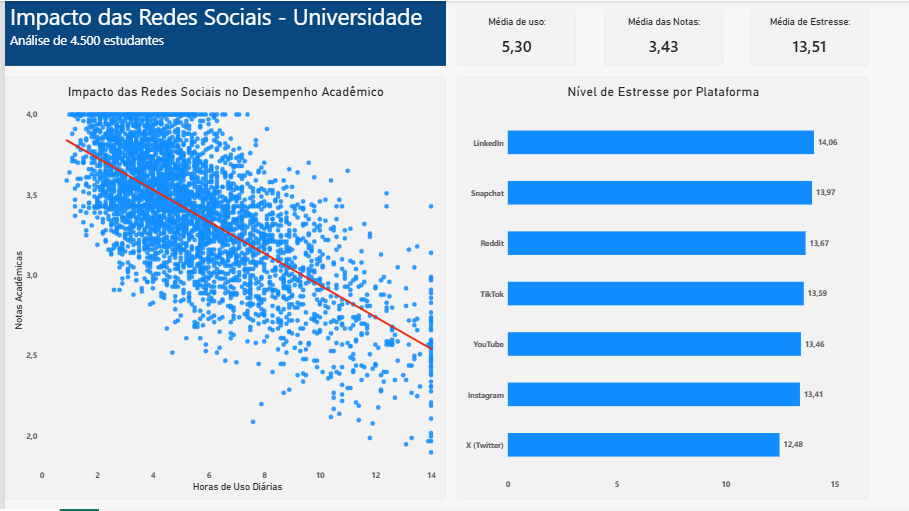

The page's visual inventory and layout, read from the dashboard file:
{"tool":"powerbi","page":{"name":"Página 1","canvas":[1920,1080],"ordinal":0},"visuals":[{"type":"scatterChart","title":"Impacto das Redes Sociais no Desempenho Acadêmico","fields":{"Category":["Social_media_impact_on_life_cleaned.Student_ID"],"X":["Sum(Social_media_impact_on_life_cleaned.Daily_Usage_Hours)"],"Y":["Sum(Social_media_impact_on_life_cleaned.Academic_Performance_GPA)"]},"box":[0,161.6,937.6,899.3],"z":0},{"type":"barChart","title":"Nível de Estresse por Plataforma","fields":{"Category":["Social_media_impact_on_life_cleaned.Primary_Platform"],"Y":["Avg(Social_media_impact_on_life_cleaned.Perceived_Stress_Score)"]},"box":[960.9,161.6,875.9,899.3],"z":1000},{"type":"shape","box":[0,0,937.6,138.2],"z":2000},{"type":"textbox","box":[10,0,937.6,123.3],"z":3000},{"type":"card","title":"Média de uso:","fields":{"Values":["Avg(Social_media_impact_on_life_cleaned.Daily_Usage_Hours)"]},"box":[960.9,17,253,121.2],"z":3001},{"type":"card","title":"Média das Notas:","fields":{"Values":["Avg(Social_media_impact_on_life_cleaned.Academic_Performance_GPA)"]},"box":[1272.4,17,253,121.2],"z":3002},{"type":"card","title":"Média de Estresse:","fields":{"Values":["Avg(Social_media_impact_on_life_cleaned.Perceived_Stress_Score)"]},"box":[1583.9,17,253,121.2],"z":3003}]}

Visuals, with their boxes in screenshot pixels (x1, y1, x2, y2), scaled from the page's 1920x1080 canvas onto the 909x511 screenshot:
"Impacto das Redes Sociais no Desempenho Acadêmico" scatterChart: rect(0, 76, 444, 502)
"Nível de Estresse por Plataforma" barChart: rect(455, 76, 870, 502)
shape: rect(0, 0, 444, 65)
textbox: rect(5, 0, 449, 58)
"Média de uso:" card: rect(455, 8, 575, 65)
"Média das Notas:" card: rect(602, 8, 722, 65)
"Média de Estresse:" card: rect(750, 8, 870, 65)
